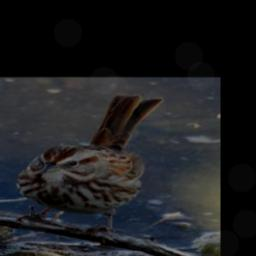Sparrow: (13, 92, 166, 238)
